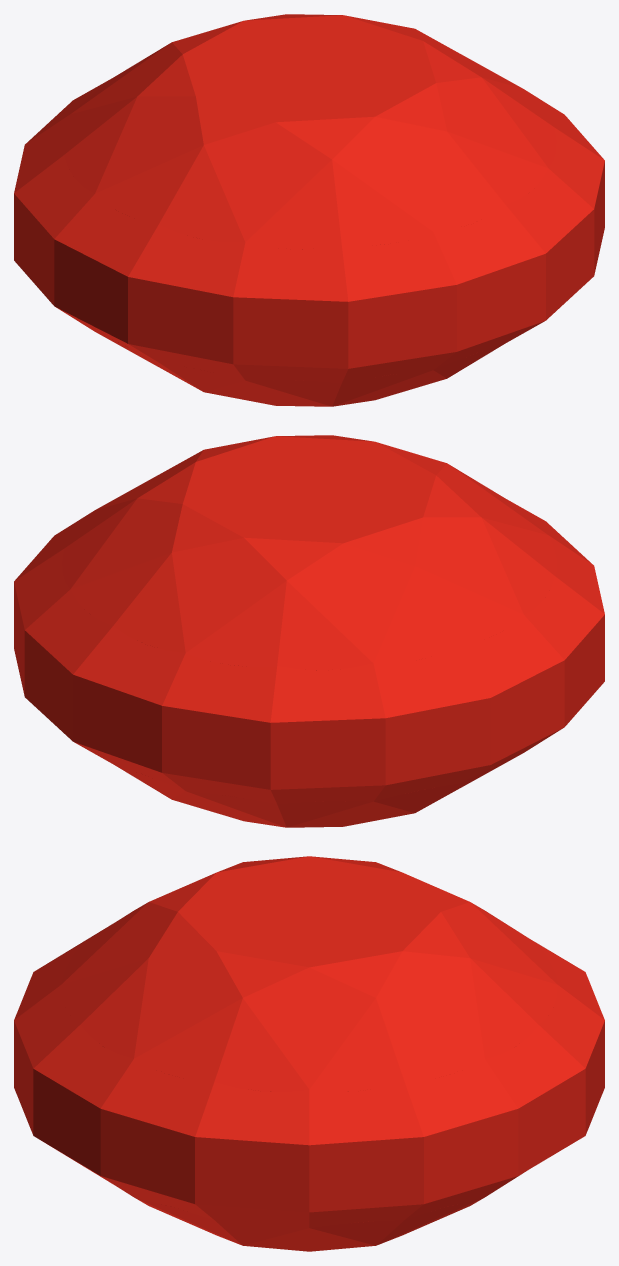
The model's file is Ruby_whole.fbx.
The picture shows the model from 3 angles, top to bottom: view 1: azimuth 30°, elevation 25°; view 2: azimuth 150°, elevation 25°; view 3: azimuth 270°, elevation 25°; orthographic projection.
Visible parts, largest first — view 1: Ruby_whole; view 2: Ruby_whole; view 3: Ruby_whole.
Part boxes in pixels (<box>): Ruby_whole: <box>14,14,604,406</box>; Ruby_whole: <box>14,435,604,827</box>; Ruby_whole: <box>14,856,604,1251</box>.
Size of the model in its own units: 1071 by 569 by 1071.
